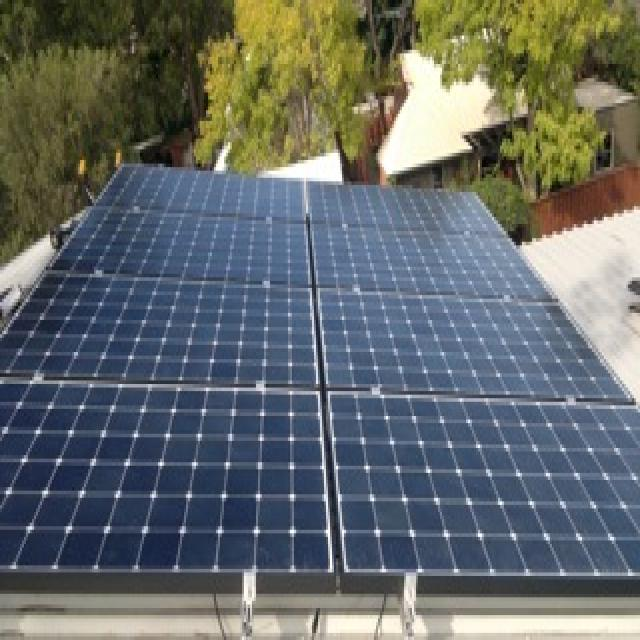clean-solar-panel: (1, 167, 640, 588)
